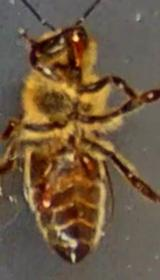varroa_mite: (70, 148, 102, 181), (27, 184, 57, 214)
